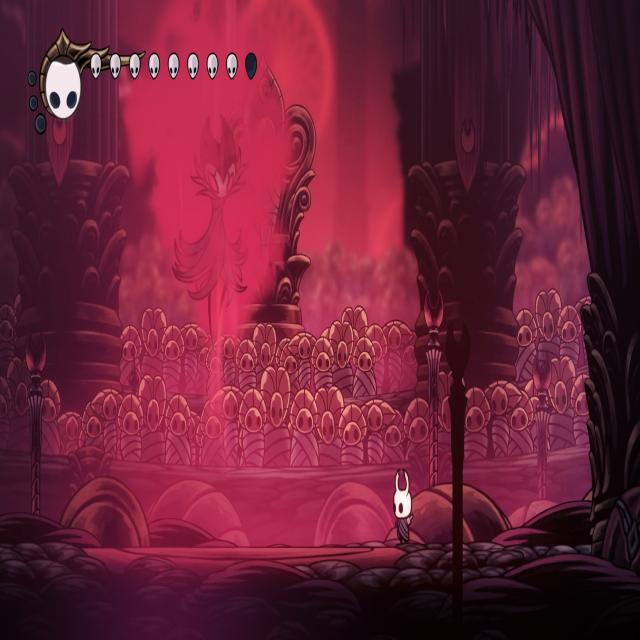Grimm: (388, 460, 416, 548)
Pufferfish: (167, 112, 252, 347)
